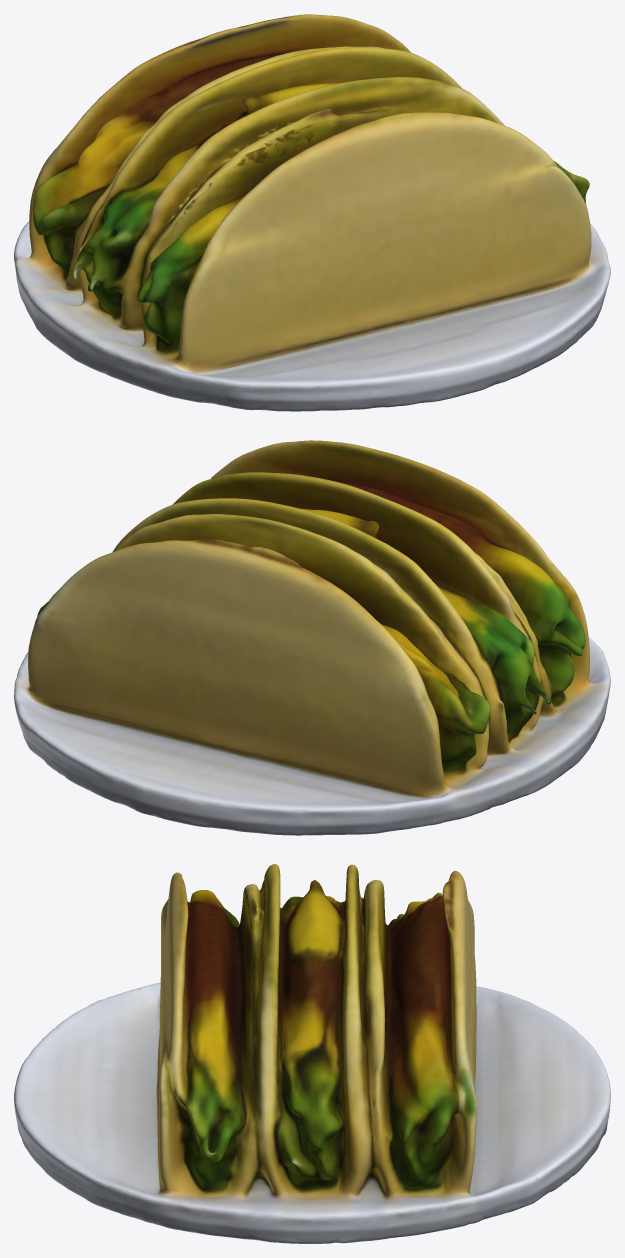
File: 07cbb5c9789a_df7f422cf573_Tacos__3d_asset_0_g.glb
3 views of the same model, one above another, from view 1: azimuth 30°, elevation 25°; view 2: azimuth 150°, elevation 25°; view 3: azimuth 270°, elevation 25° (orthographic).
Visible parts, largest first — view 1: high_poly; view 2: high_poly; view 3: high_poly.
Boxes of the visible parts, x1=… form: high_poly: x1=14, y1=14, x2=610, y2=411; high_poly: x1=14, y1=440, x2=610, y2=835; high_poly: x1=14, y1=864, x2=610, y2=1243.
Size of the model in its own units: 0.9907 by 0.4105 by 1.
Materials: 1 (1 with a texture image).
